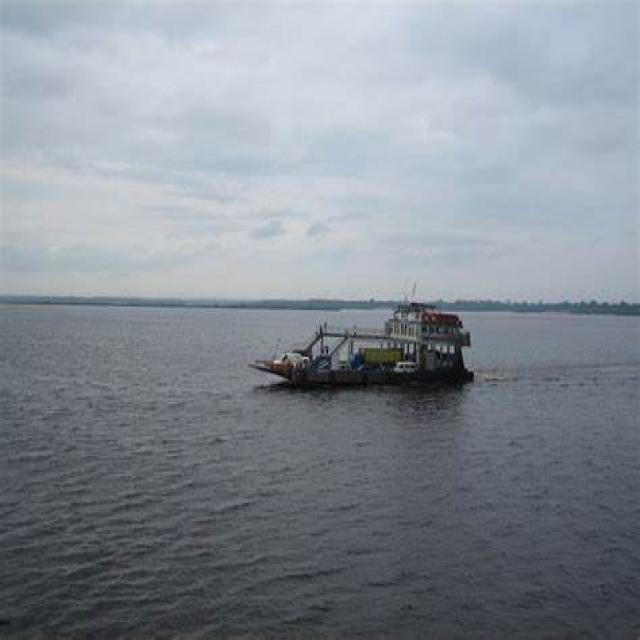houseboat: (250, 296, 473, 391)
